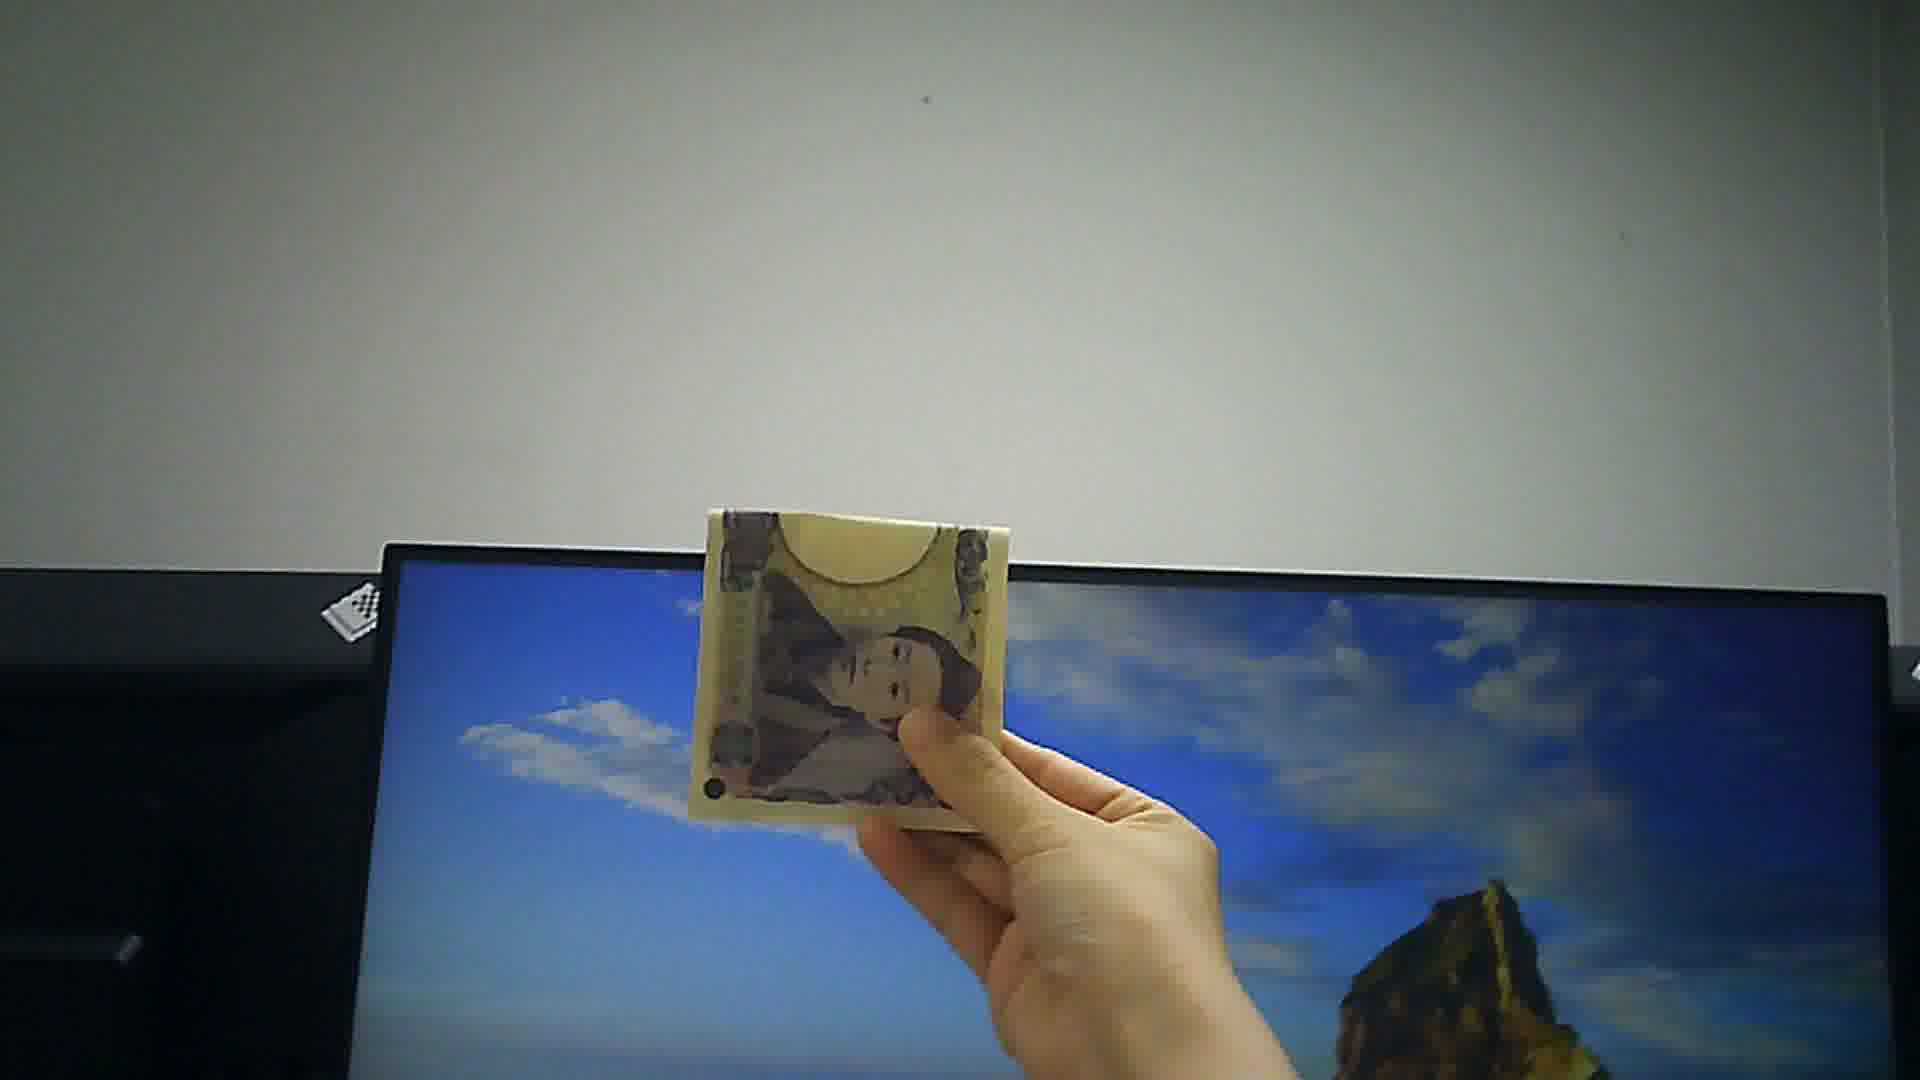5,000 Yen: (687, 502, 1011, 829)
